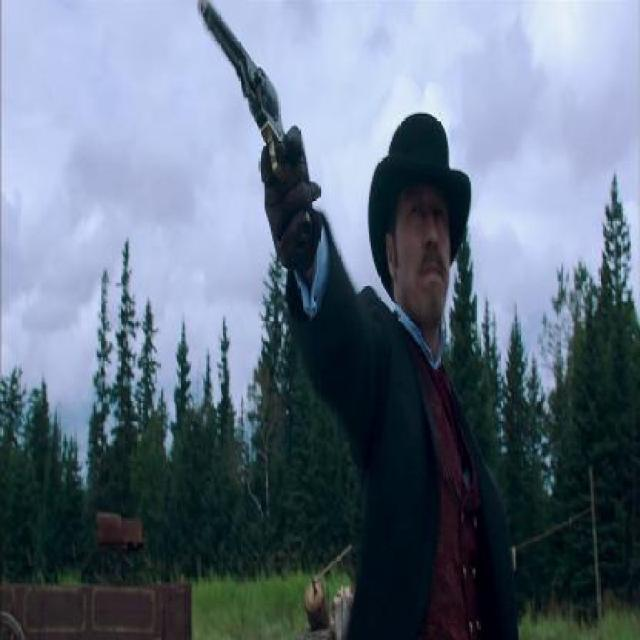gun: (191, 0, 311, 232)
